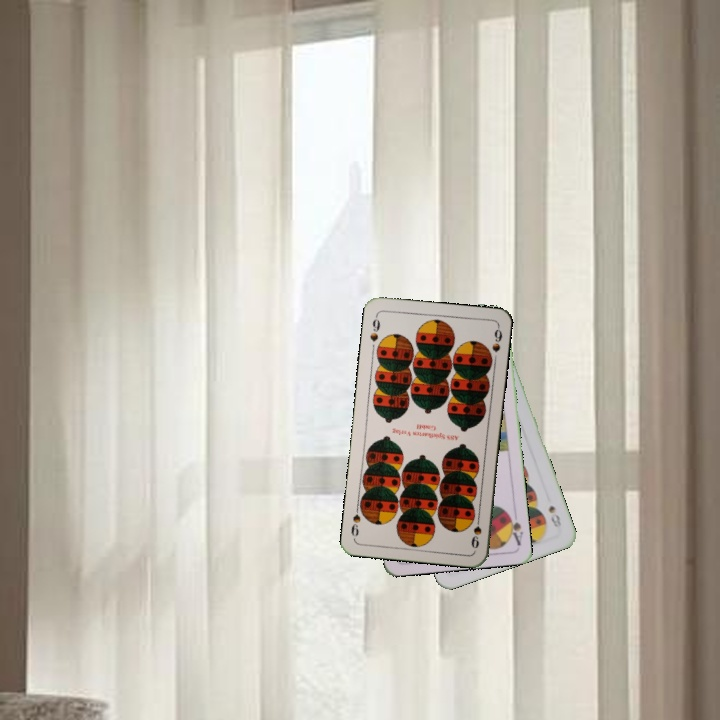S8: (544, 501, 564, 532)
S9: (467, 511, 484, 551), (366, 311, 383, 344)
SA: (504, 508, 525, 548)
